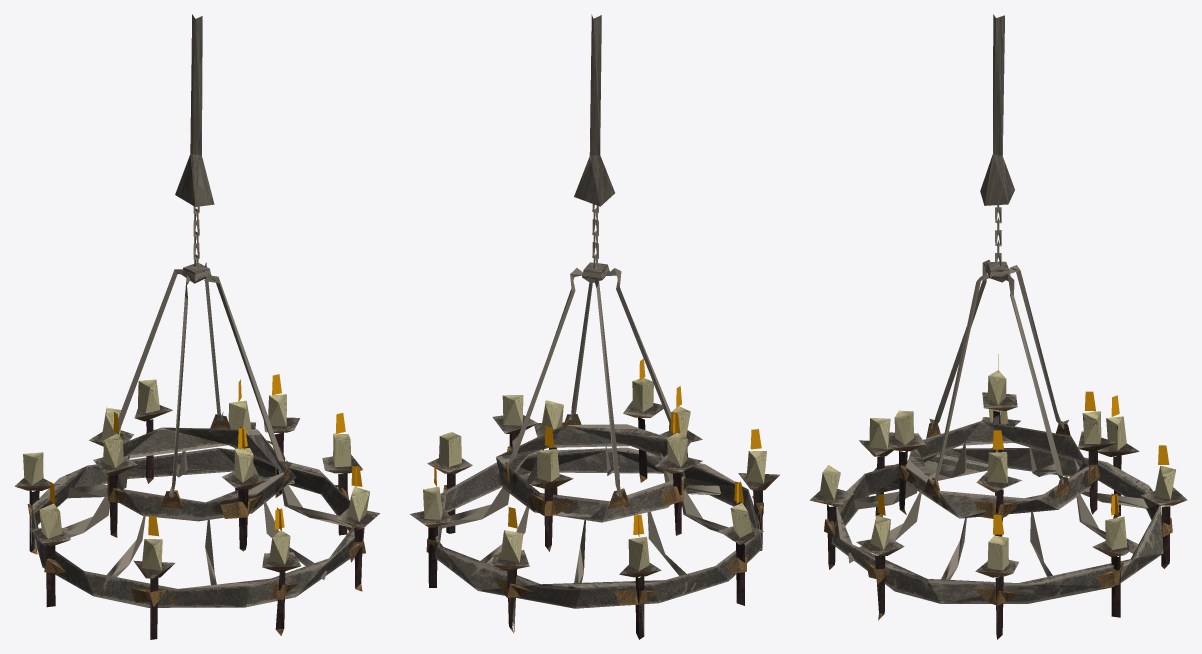
Rendered from item_halloween_chandelier.glb.
3 views of the same model, side by side, from view 1: azimuth 30°, elevation 25°; view 2: azimuth 150°, elevation 25°; view 3: azimuth 270°, elevation 25° (orthographic).
Visible parts, largest first — view 1: Chandelier_submesh_0, Chandelier_submesh_1; view 2: Chandelier_submesh_0, Chandelier_submesh_1; view 3: Chandelier_submesh_0, Chandelier_submesh_1.
Boxes of the visible parts, x1,y1,x2,y2 form: Chandelier_submesh_0: (14,14,380,639); Chandelier_submesh_1: (50,374,362,536); Chandelier_submesh_0: (410,14,779,639); Chandelier_submesh_1: (434,359,761,536); Chandelier_submesh_0: (809,14,1187,639); Chandelier_submesh_1: (877,354,1169,534).
Bounding box in the file's own units: 1.22 × 2.02 × 1.25.
2 materials, 1 textured.
